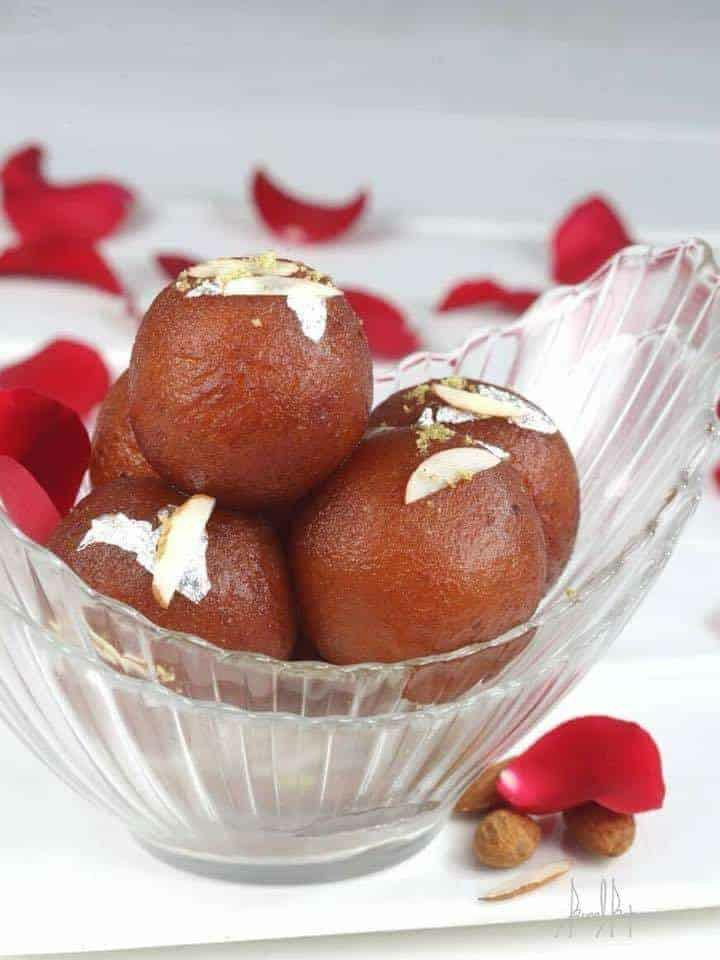GulabJamun: (293, 422, 547, 708), (128, 256, 377, 516), (51, 479, 291, 719), (378, 378, 581, 604), (96, 363, 186, 506)
